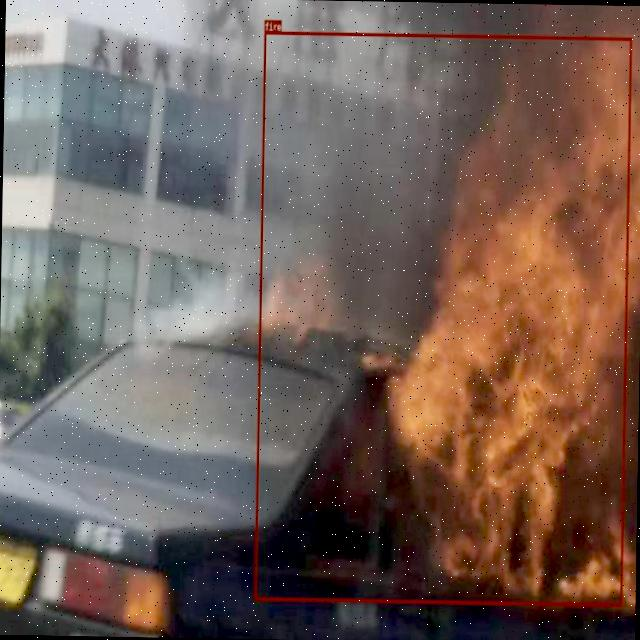fire: (254, 30, 632, 605)
